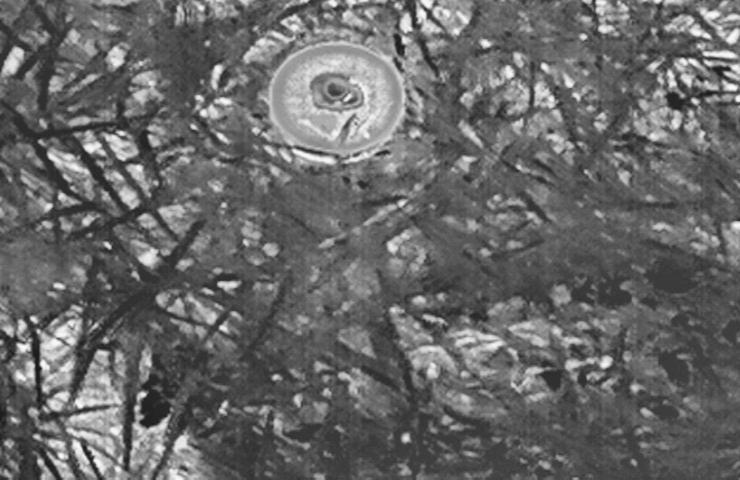landmines: (264, 34, 414, 168)
